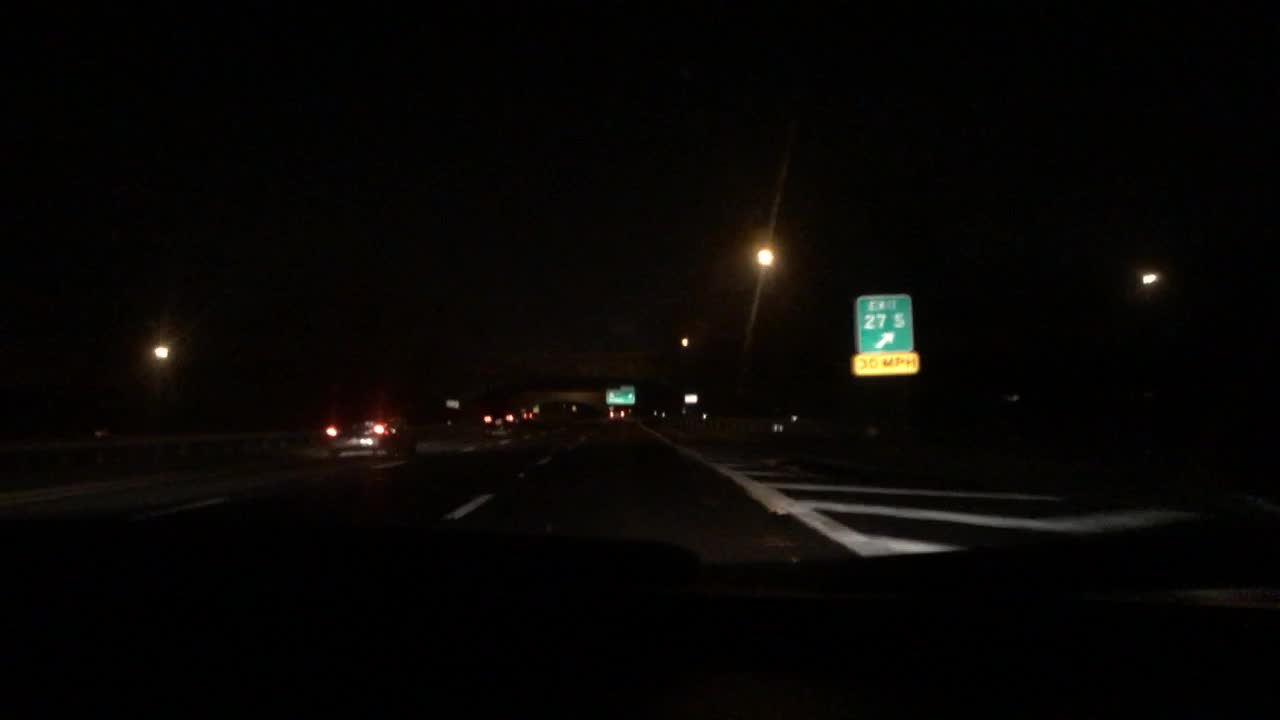car: (322, 399, 418, 460), (22, 422, 107, 441), (483, 402, 518, 439), (522, 409, 539, 429), (607, 408, 628, 420)
traffic sign: (855, 296, 913, 353), (852, 355, 920, 376), (605, 383, 637, 402), (679, 394, 702, 404), (446, 397, 462, 411)
